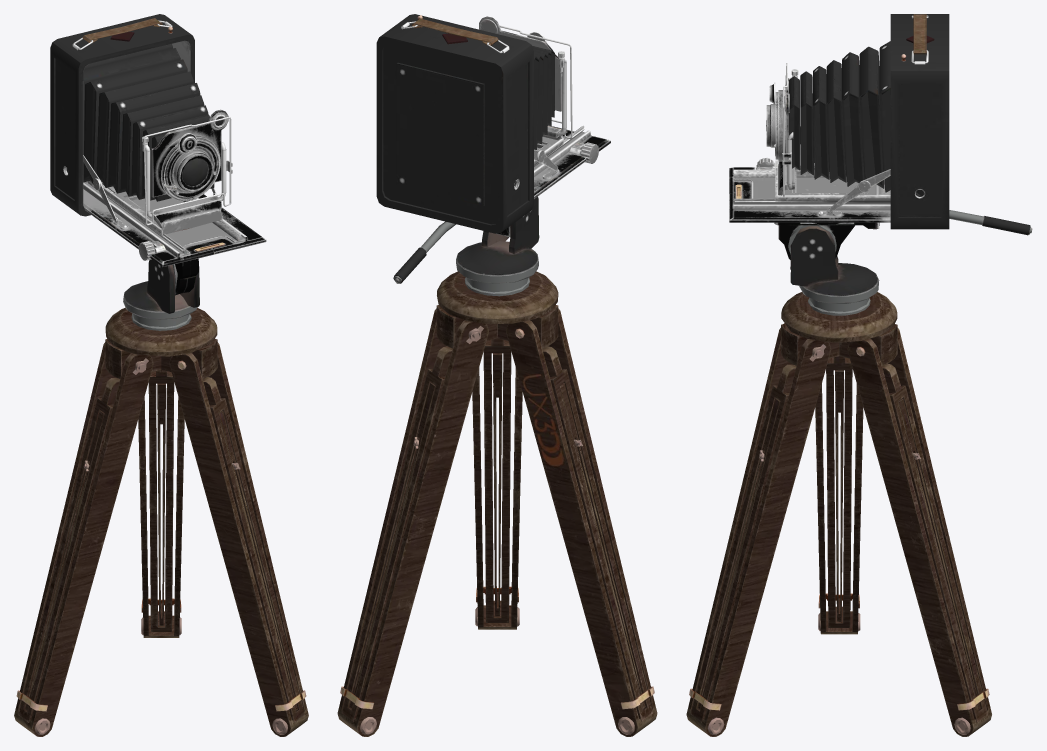
The model's file is AntiqueCamera.glb.
3 views of the same model, side by side, from view 1: azimuth 30°, elevation 25°; view 2: azimuth 150°, elevation 25°; view 3: azimuth 270°, elevation 25° (orthographic). The views are drawn at different scales.
Visible parts, largest first — view 1: tripod, camera; view 2: tripod, camera; view 3: tripod, camera.
Part boxes in pixels (x1,y1,x2,y2): tripod: (14,258,308,736); camera: (50,14,266,266); tripod: (337,196,657,736); camera: (376,14,610,233); tripod: (686,210,1032,736); camera: (729,14,949,229).
Size of the model in its own units: 2.6 by 7.21 by 3.39.
Materials: 2 (2 with a texture image).
